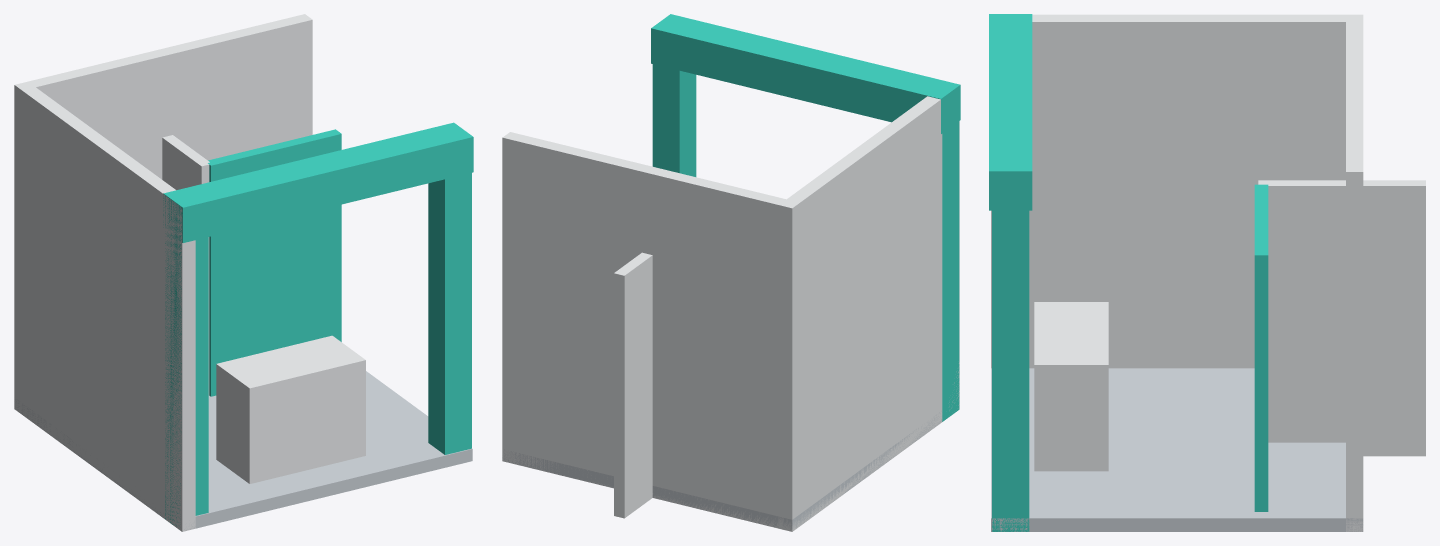
3 renders of one model, left to right at view 1: azimuth 30°, elevation 25°; view 2: azimuth 150°, elevation 25°; view 3: azimuth 270°, elevation 25°, orthographic. The views are drawn at different scales.
Parts seen in each view (by area): view 1: Exhibition Booth Concept; view 2: Exhibition Booth Concept; view 3: Exhibition Booth Concept.
Boxes of the visible parts, left/top/right/bottom form: Exhibition Booth Concept: left=14, top=14, right=473, bottom=531; Exhibition Booth Concept: left=502, top=14, right=960, bottom=531; Exhibition Booth Concept: left=989, top=14, right=1425, bottom=531.
Bounding box in the file's own units: 3 × 3.2 × 3.52.
